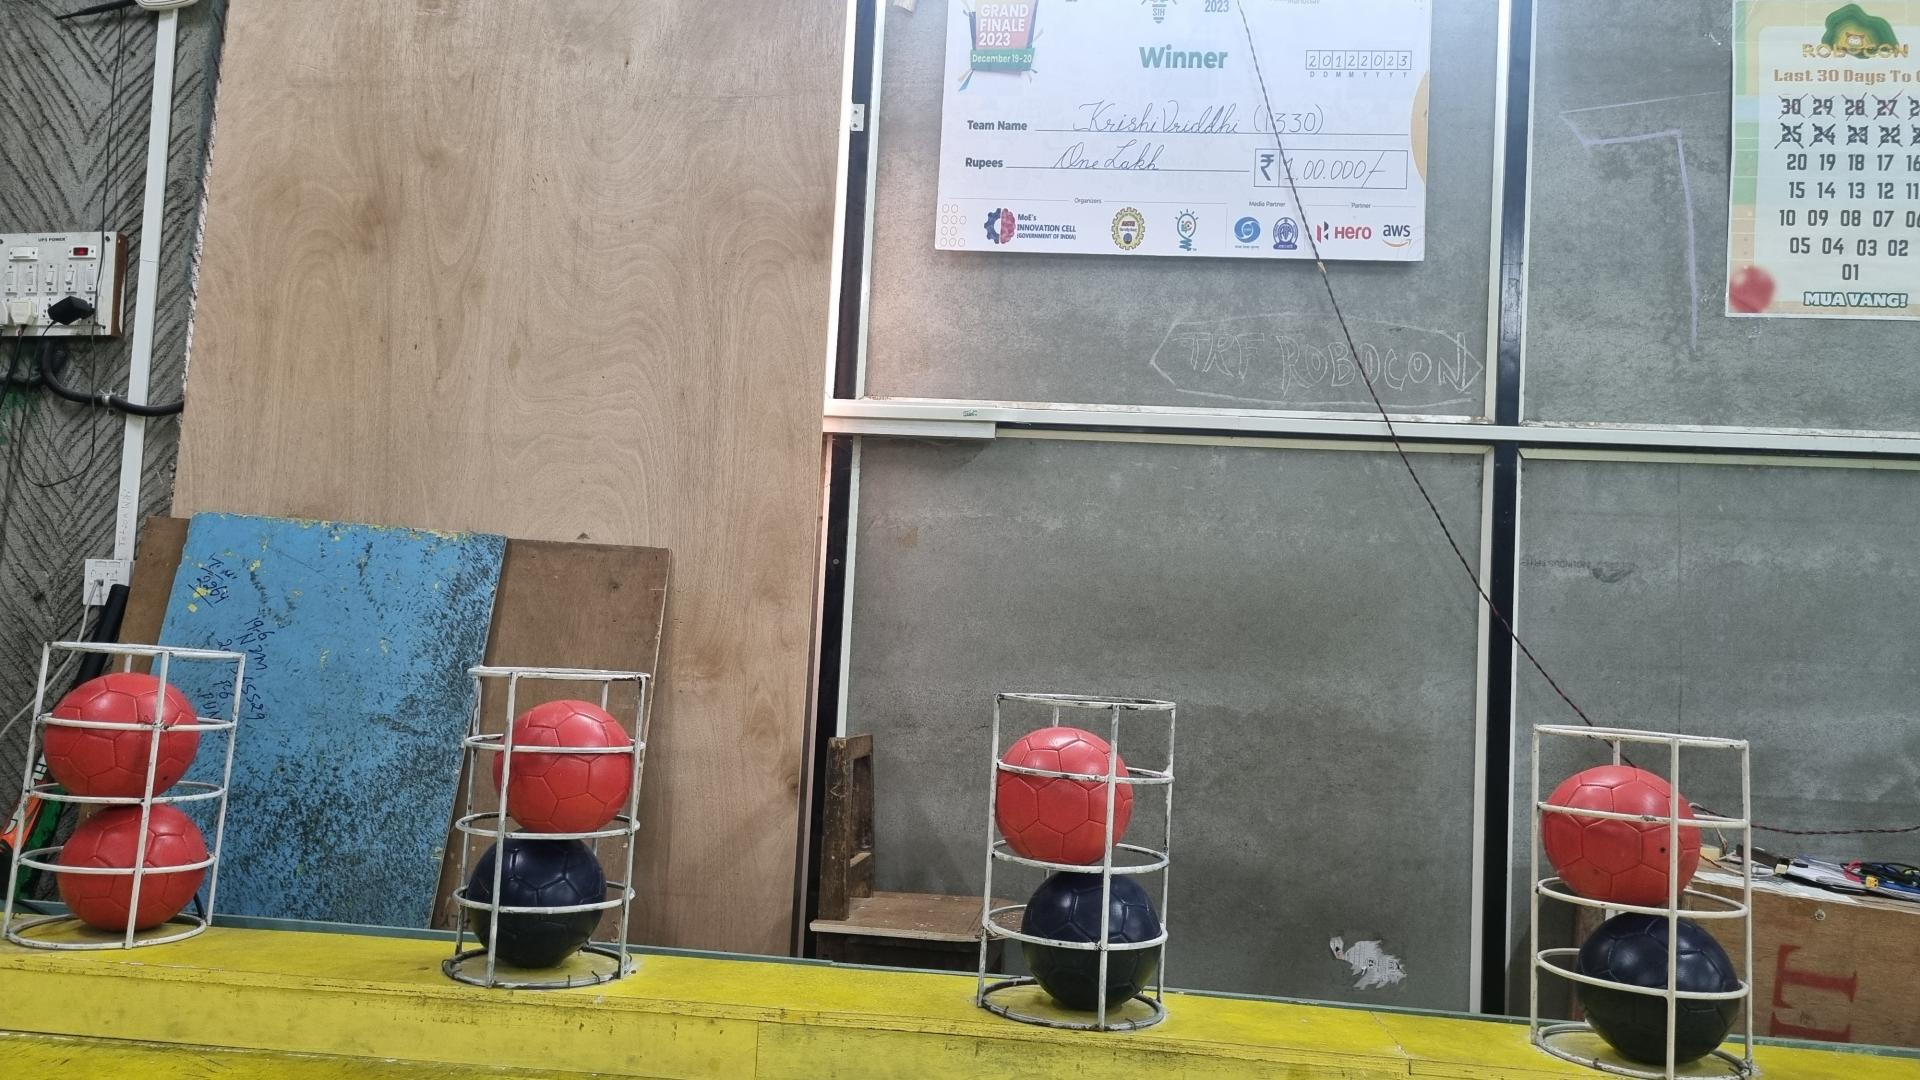dhoka: (1575, 914, 1743, 1068), (1021, 869, 1163, 1011), (465, 839, 608, 971)
laale: (1542, 765, 1702, 907), (41, 671, 199, 798), (994, 727, 1137, 865), (57, 806, 210, 932), (492, 700, 634, 836)
